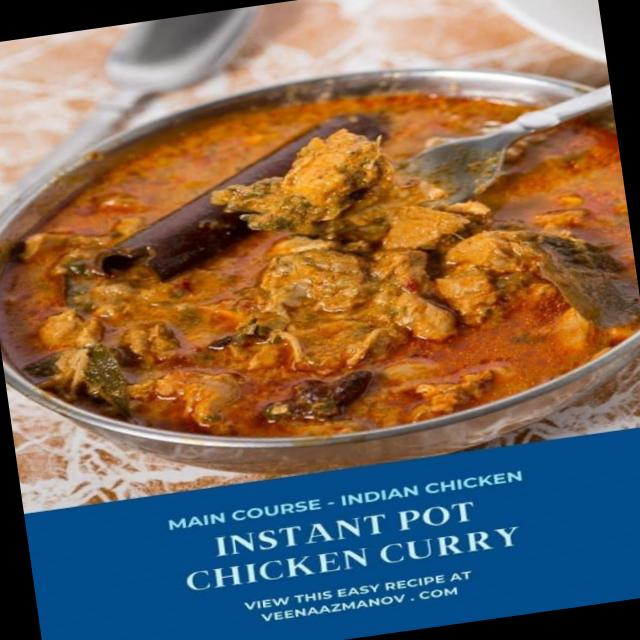chicken: (0, 49, 640, 491)
